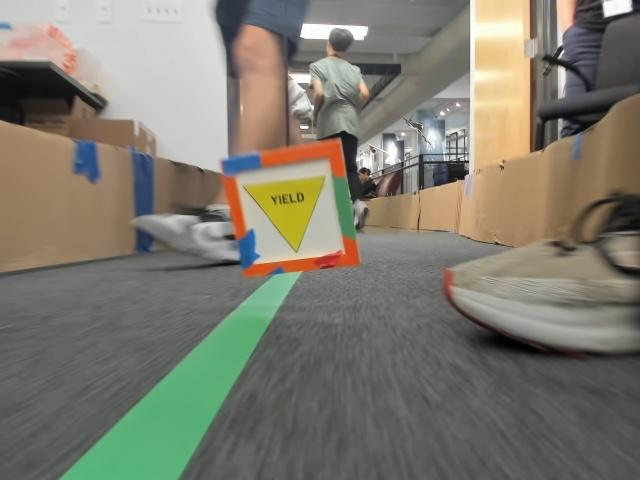Yield: (242, 183, 323, 257)
